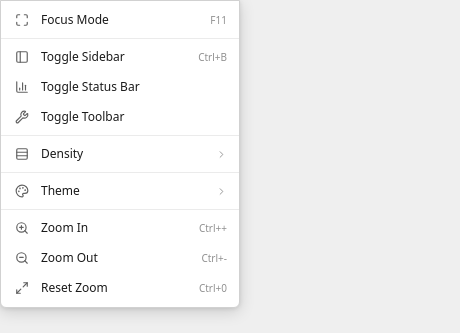
Test case: ViewMenu › Density Switcher › should show density submenu on hover with Compact, Comfortable, and Spacious options
Hover over the element showing "Density" at {"x": 62, "y": 154}, box x1=15 y1=145 x2=227 y2=162
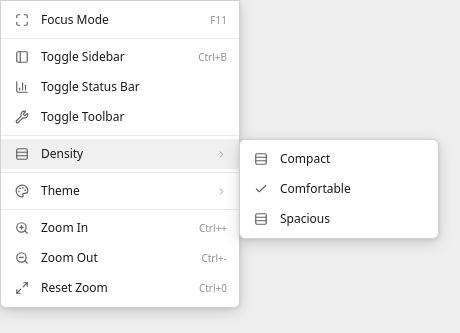
Now the text "Compact" is shown, box x1=280 y1=150 x2=330 y2=167
Now the text "Comfortable" is shown, box x1=280 y1=180 x2=351 y2=197
Now the text "Spacious" is shown, box x1=280 y1=210 x2=330 y2=227
